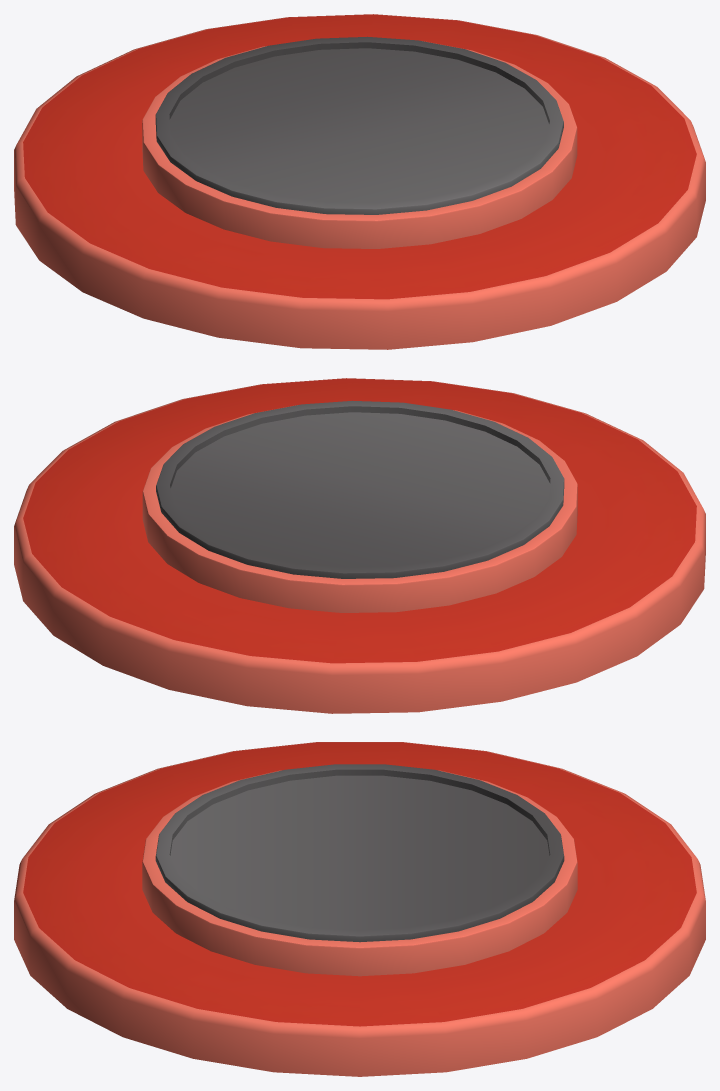
The model's file is M_Jump_area_2.fbx.
The picture shows the model from 3 angles, top to bottom: view 1: azimuth 30°, elevation 25°; view 2: azimuth 150°, elevation 25°; view 3: azimuth 270°, elevation 25°; orthographic projection.
Parts seen in each view (by area): view 1: M_Jump_area_2; view 2: M_Jump_area_2; view 3: M_Jump_area_2.
Boxes of the visible parts, left/top/right/bottom form: M_Jump_area_2: left=14, top=14, right=705, bottom=349; M_Jump_area_2: left=14, top=378, right=705, bottom=713; M_Jump_area_2: left=14, top=742, right=705, bottom=1076.
Bounding box in the file's own units: 2293 × 296 × 2297.
